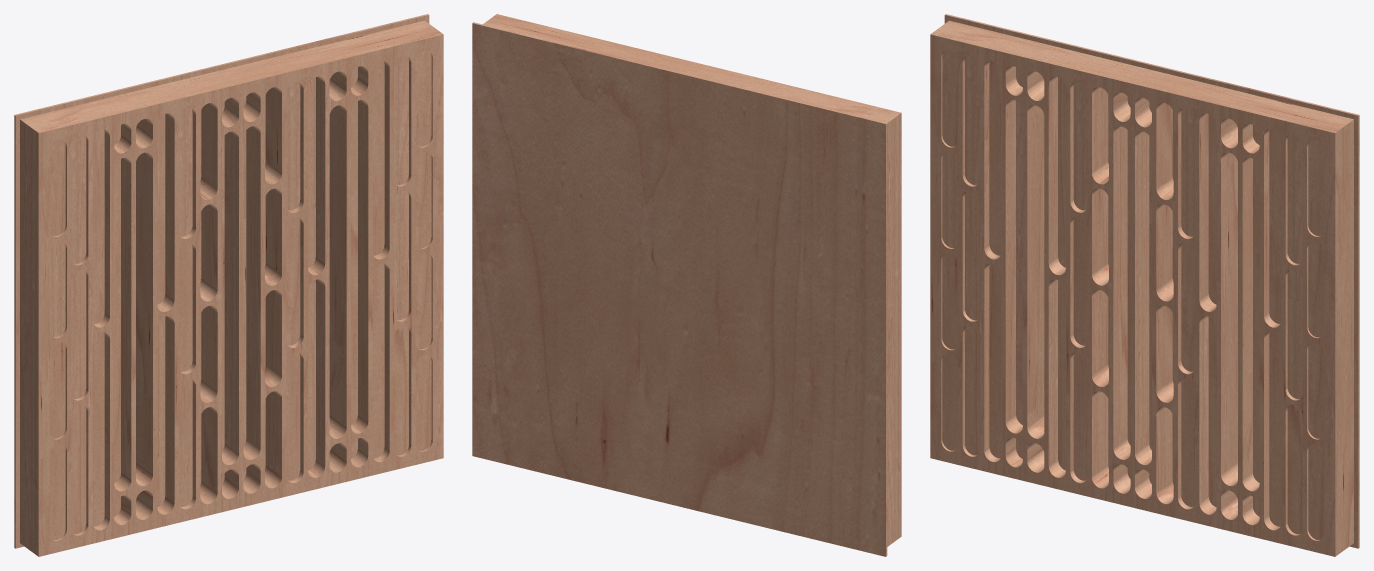
The model's file is GuDPanelDCT.glb.
The picture shows the model from 3 angles, left to right: view 1: azimuth 30°, elevation 25°; view 2: azimuth 150°, elevation 25°; view 3: azimuth 330°, elevation 25°; orthographic projection.
Parts seen in each view (by area): view 1: GuD 23_625x23_625_2 DCT v1; view 2: GuD 23_625x23_625_2 DCT v1; view 3: GuD 23_625x23_625_2 DCT v1.
Part boxes in pixels (x1,y1,x2,y2): GuD 23_625x23_625_2 DCT v1: (14, 14, 443, 556); GuD 23_625x23_625_2 DCT v1: (472, 14, 901, 556); GuD 23_625x23_625_2 DCT v1: (930, 14, 1359, 556).
Bounding box in the file's own units: 23.62 × 23.63 × 2.
Materials: 1 (1 with a texture image).
